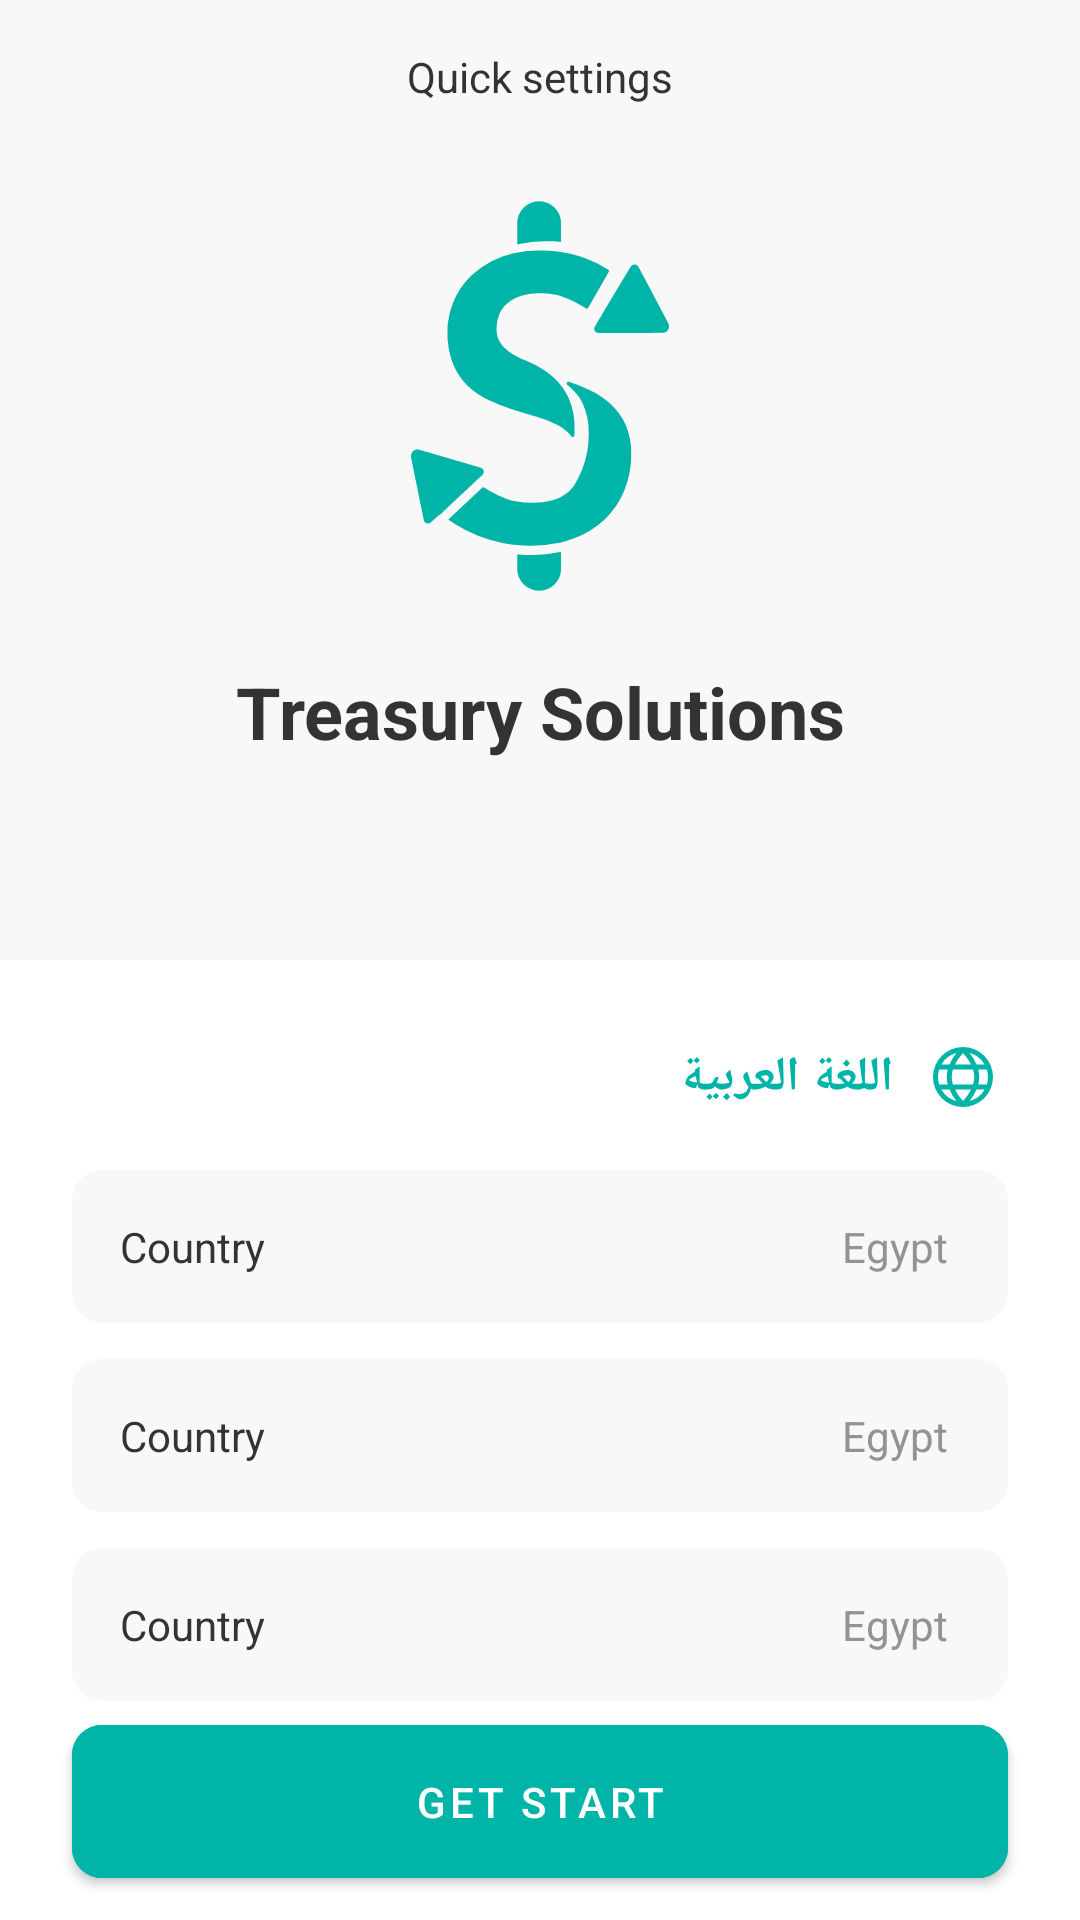

Locate icon controls on the screen. Image size 1080 × 1920, boxes as {"left": x1, "top": y1, "right": x2, "bottom": y2}.
global: {"left": 933, "top": 1047, "right": 993, "bottom": 1107}
